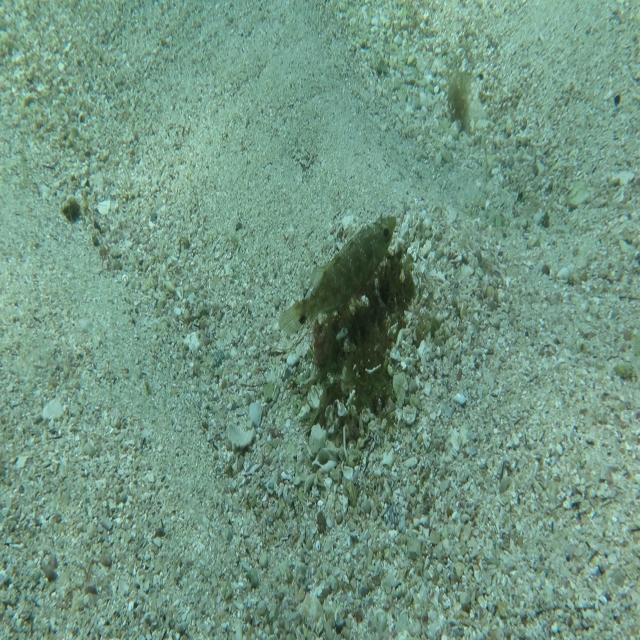FAN: (278, 214, 398, 341)
core_nest: (366, 276, 403, 311)
nest: (288, 246, 418, 455)
vegetation: (447, 71, 477, 138), (59, 196, 81, 228)
